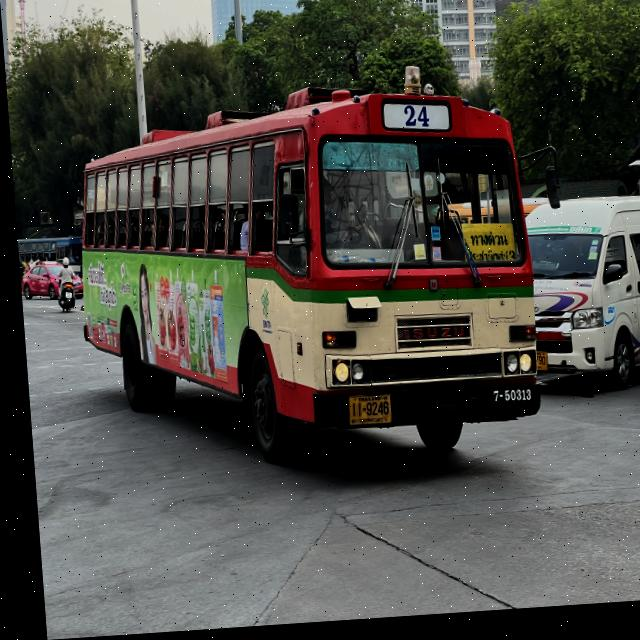BMTA-bus: (62, 59, 541, 489)
Bus-Line-Number: (398, 107, 434, 139)
Destination-Sign-Normal-Expressway: (457, 226, 512, 271)
